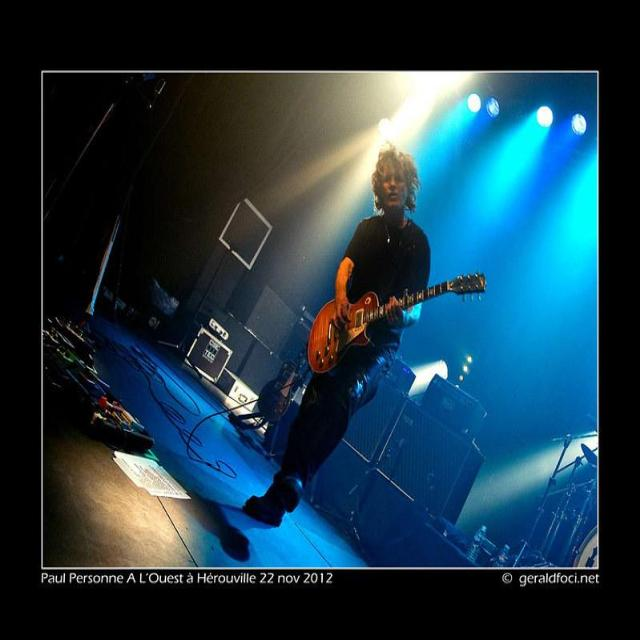guitar: (308, 293, 385, 373)
